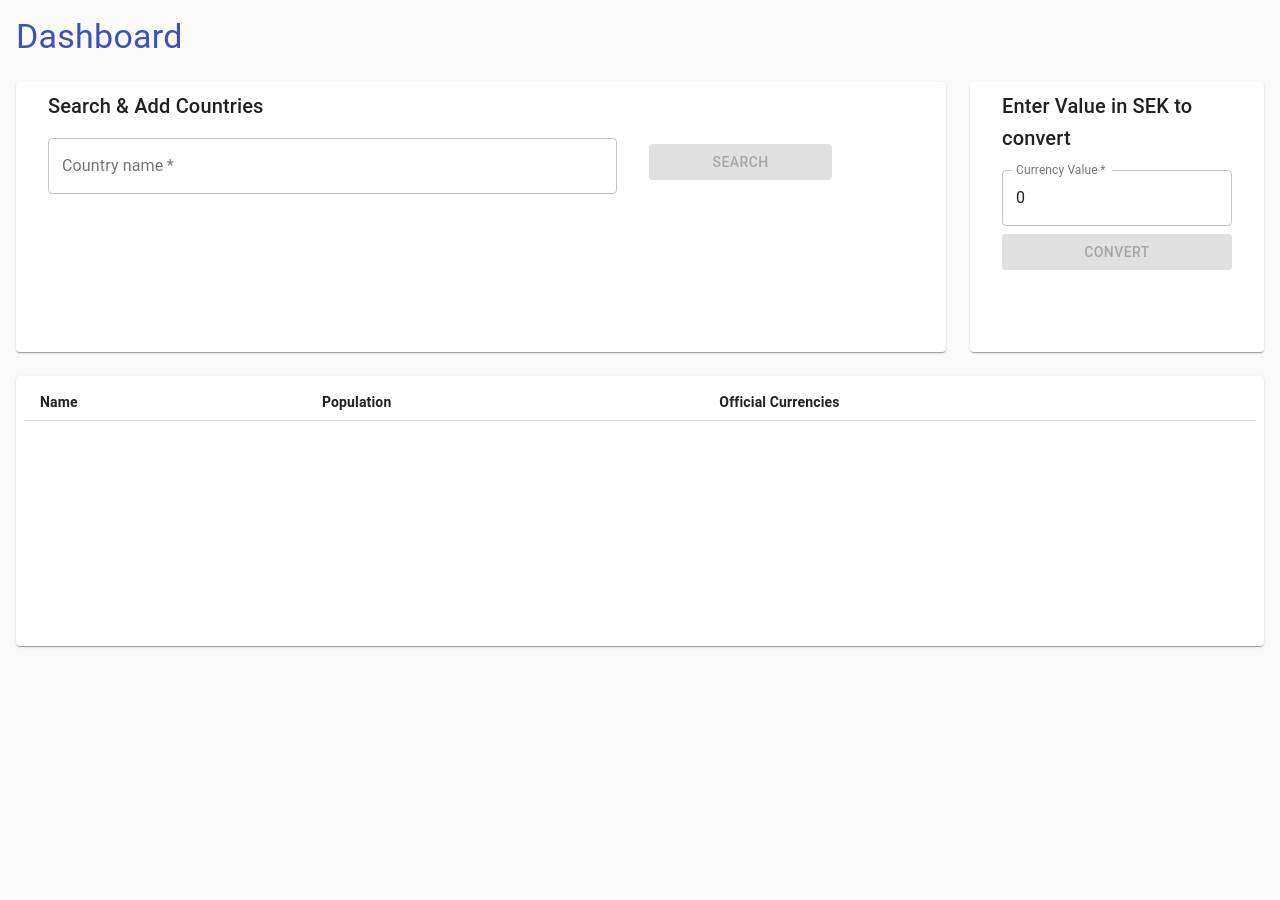
Testing dashboard page › basic functionality works in dashboard
// enter country search text
In the field labelled "Country name *": (333,166) [48, 138, 617, 194], type "test"
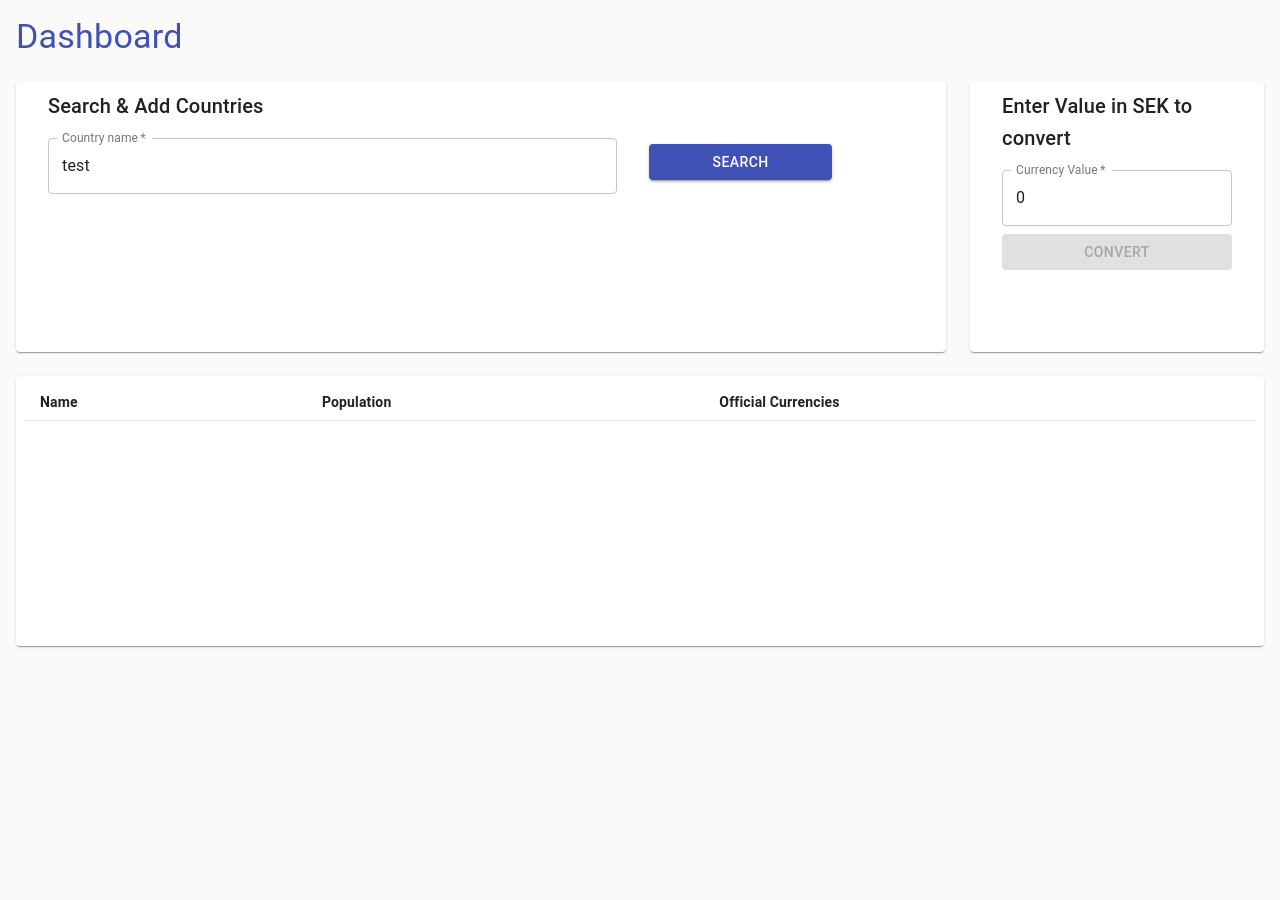
Click the button "Search": (741,162) [649, 144, 832, 180]
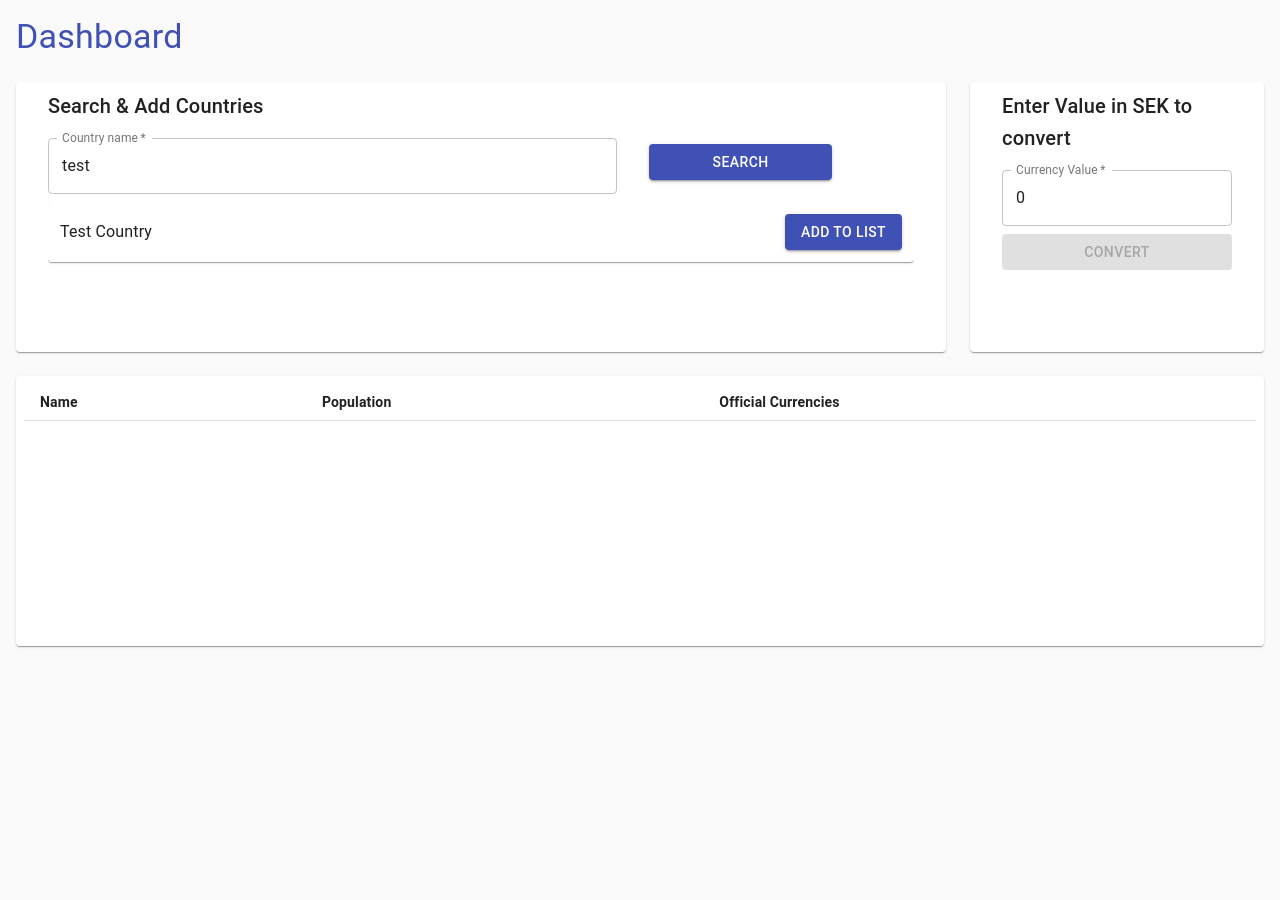
Expected: the text "Test Country" is shown, [60, 220, 152, 244]
// add the country to the list
Click the button "Add to list": (844,232) [785, 214, 902, 250]
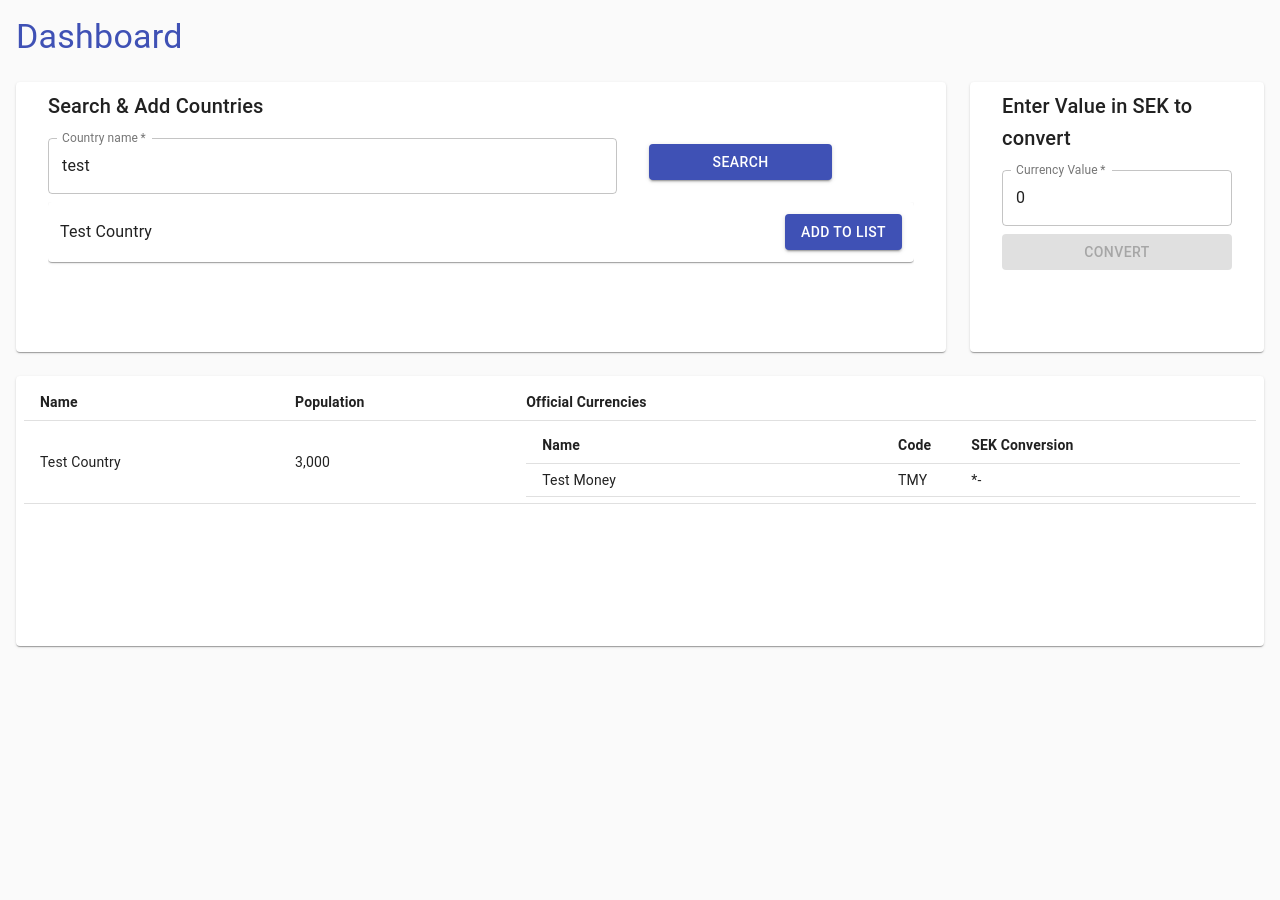
Expected: the text "3,000" is shown, [279, 420, 510, 504]
Expected: the text "TMY" is shown, [882, 464, 955, 496]
// enter a value to currency input
Replace the text in the number field labelled "Currency Value *" with "100": (1117,198) [1002, 170, 1232, 226]
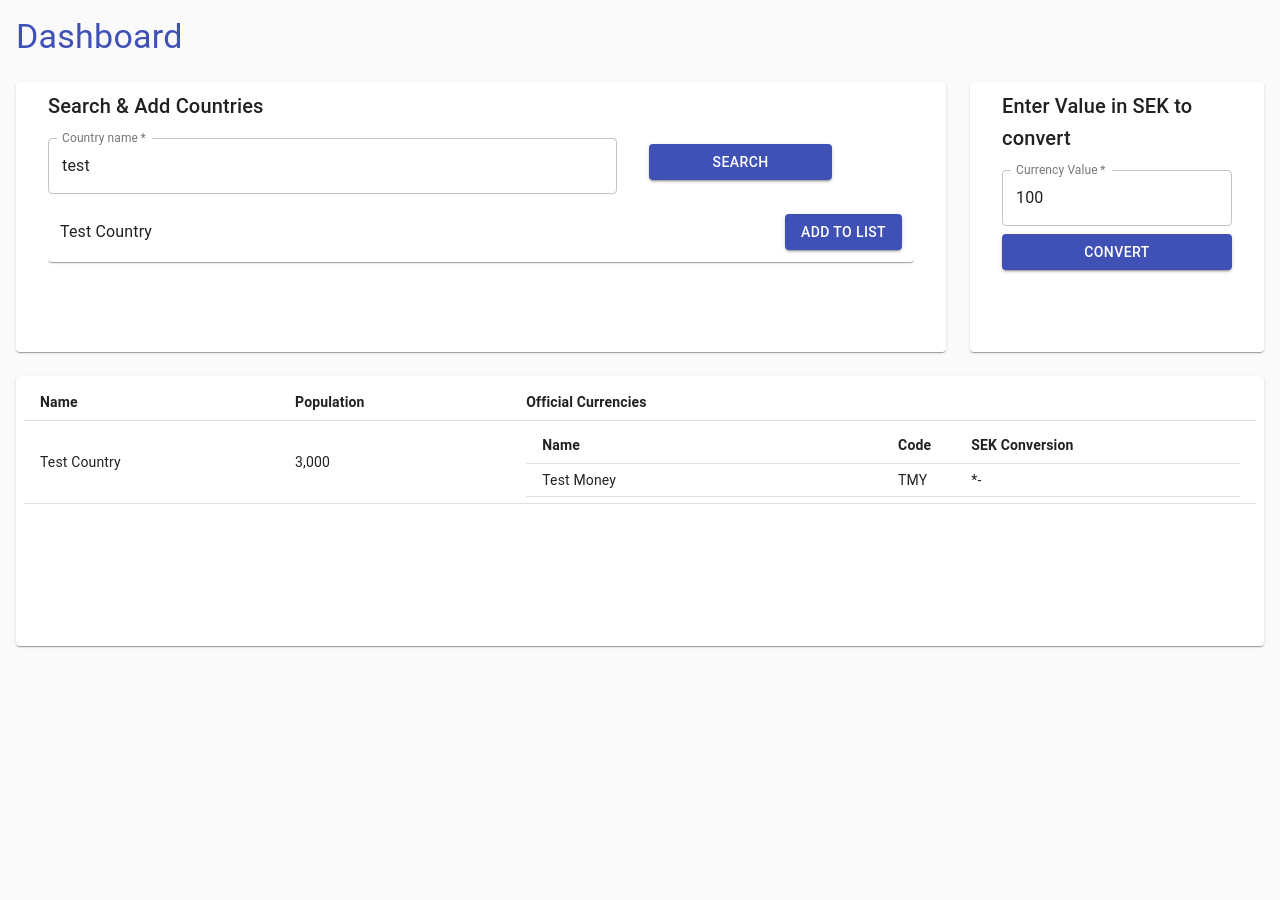
// simulate convert button click
Click the button "Convert": (1117,252) [1002, 234, 1232, 270]
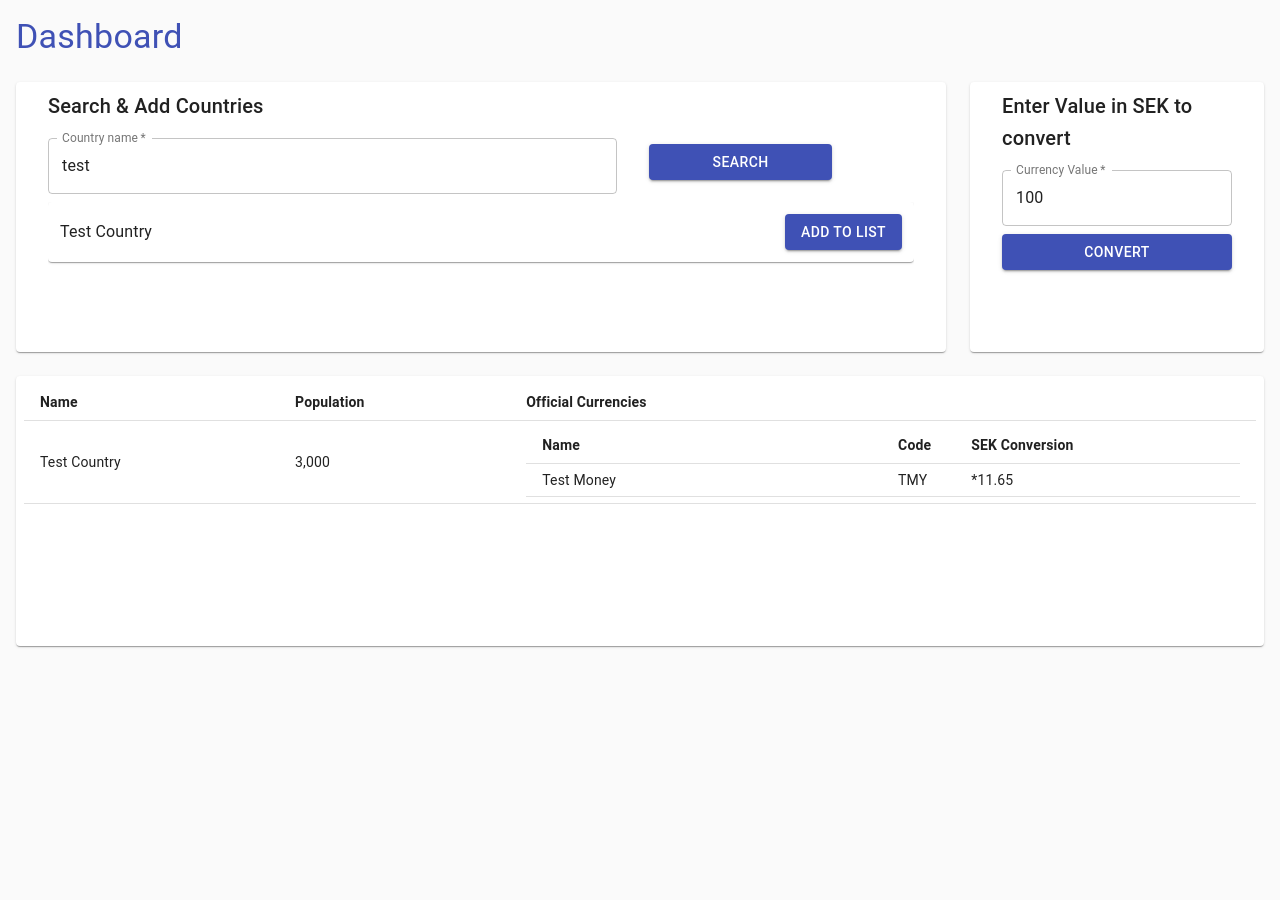
Expected: the text "11.65" is shown, [977, 472, 1013, 488]
